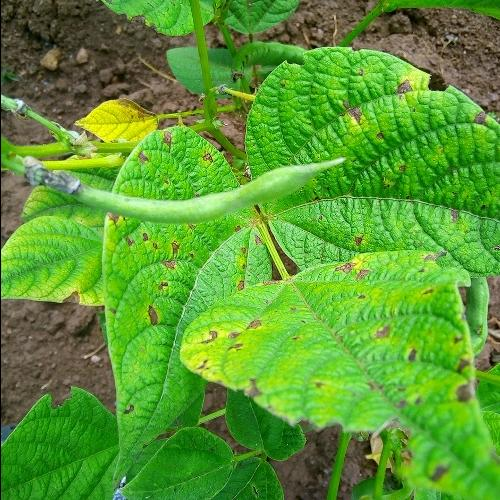mozaik: (83, 68, 462, 427)
